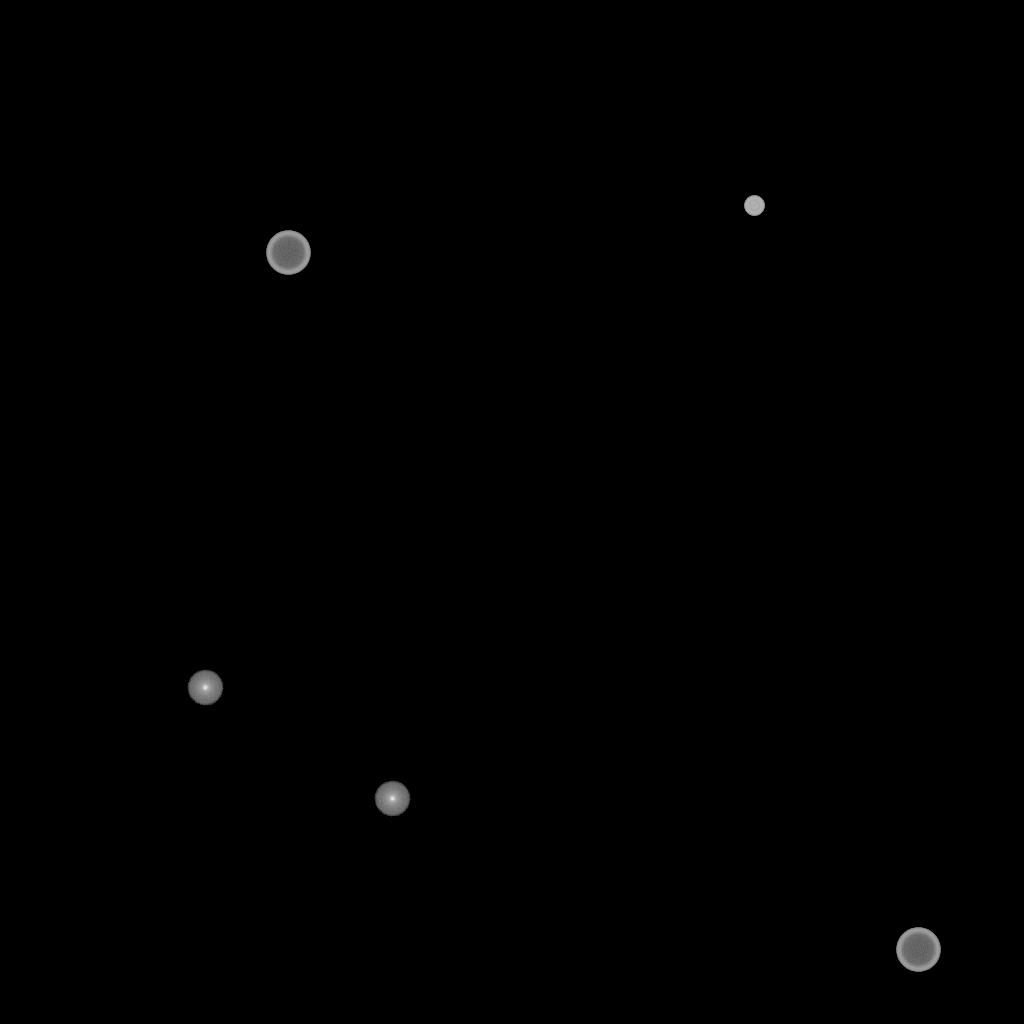depth:-40: (744, 196, 764, 216)
depth:-70: (266, 231, 310, 275), (896, 928, 940, 972)
depth:0: (374, 781, 410, 817), (187, 670, 223, 706)
